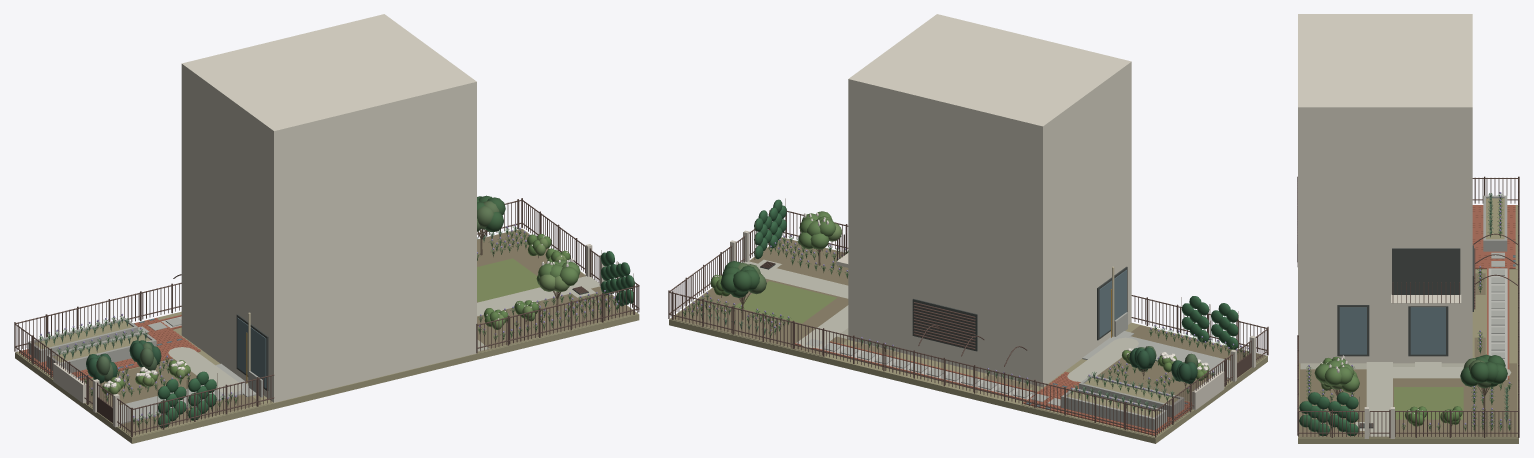
The model's file is design-A-year3.glb.
3 renders of one model, left to right at view 1: azimuth 30°, elevation 25°; view 2: azimuth 150°, elevation 25°; view 3: azimuth 270°, elevation 25°, orthographic. The views are drawn at different scales.
Visible parts, largest first — view 1: Unsurveyed_Building_Mass, Boundary_Fences_Approximate_metal, R0_Flat_Datum, S-west-border, Footprint_Proxy_Unsurveyed, Proposed_Planting_Beds_And_Mulch, S-lawn, Leaves_N14_Foliage_TJ, Visible_planter_Openings_glass, N-woodland, S-east-border, Red_Brick_Joints_Indicative_brick (+14 smaller); view 2: Unsurveyed_Building_Mass, Boundary_Fences_Approximate_metal, R0_Flat_Datum, Proposed_Planting_Beds_And_Mulch, S-lawn, S-east-border, Footprint_Proxy_Unsurveyed, Leaves_N14_Foliage_TJ, S-west-border, Wall_Services_Visible_Proxies_dark, N-woodland, Wall_Services_Visible_Proxies_metal (+19 smaller); view 3: Unsurveyed_Building_Mass, Visible_bare_Openings_dark, Boundary_Fences_Approximate_metal, Visible_bare_Openings_glass, R0_Flat_Datum, Proposed_Planting_Beds_And_Mulch, S-east-border, Leaves_S07_Foliage_TJ, S-lawn, S-main_New_Warm_Grey_Paving, Red_Brick_Joints_Indicative_brick, Zone_3_Steps_And_Gravel_slab (+18 smaller).
Part boxes in pixels (x1,y1,x2,y2): Unsurveyed_Building_Mass: [181, 14, 476, 394]; Boundary_Fences_Approximate_metal: [14, 198, 639, 437]; R0_Flat_Datum: [15, 231, 639, 443]; S-west-border: [477, 293, 632, 346]; Footprint_Proxy_Unsurveyed: [181, 327, 476, 402]; Proposed_Planting_Beds_And_Mulch: [83, 229, 636, 435]; S-lawn: [477, 258, 539, 302]; Leaves_N14_Foliage_TJ: [158, 371, 216, 427]; Visible_planter_Openings_glass: [237, 317, 266, 388]; N-woodland: [85, 360, 196, 403]; S-east-border: [477, 230, 581, 276]; Red_Brick_Joints_Indicative_brick: [20, 318, 200, 379]; Unsurveyed_Building_Mass: [848, 14, 1131, 378]; Boundary_Fences_Approximate_metal: [668, 209, 1268, 437]; R0_Flat_Datum: [669, 247, 1267, 443]; Proposed_Planting_Beds_And_Mulch: [673, 237, 1263, 401]; S-lawn: [735, 281, 836, 323]; S-east-border: [676, 289, 790, 341]; Footprint_Proxy_Unsurveyed: [848, 314, 1131, 387]; Leaves_N14_Foliage_TJ: [1181, 296, 1238, 349]; S-west-border: [759, 239, 848, 280]; Wall_Services_Visible_Proxies_dark: [912, 298, 977, 351]; N-woodland: [1097, 360, 1211, 398]; Wall_Services_Visible_Proxies_metal: [913, 302, 975, 349]; Unsurveyed_Building_Mass: [1298, 14, 1472, 355]; Visible_bare_Openings_dark: [1337, 248, 1460, 356]; Boundary_Fences_Approximate_metal: [1297, 176, 1519, 437]; Visible_bare_Openings_glass: [1339, 307, 1445, 354]; R0_Flat_Datum: [1298, 270, 1518, 443]; Proposed_Planting_Beds_And_Mulch: [1300, 363, 1516, 436]; S-east-border: [1397, 389, 1514, 435]; Leaves_S07_Foliage_TJ: [1299, 392, 1358, 435]; S-lawn: [1394, 387, 1463, 419]; S-main_New_Warm_Grey_Paving: [1366, 362, 1392, 436]; Red_Brick_Joints_Indicative_brick: [1472, 205, 1515, 268]; Zone_3_Steps_And_Gravel_slab: [1491, 252, 1504, 362].
Size of what is drawn, in the model's own units: 25.22 by 13.1 by 10.06.
